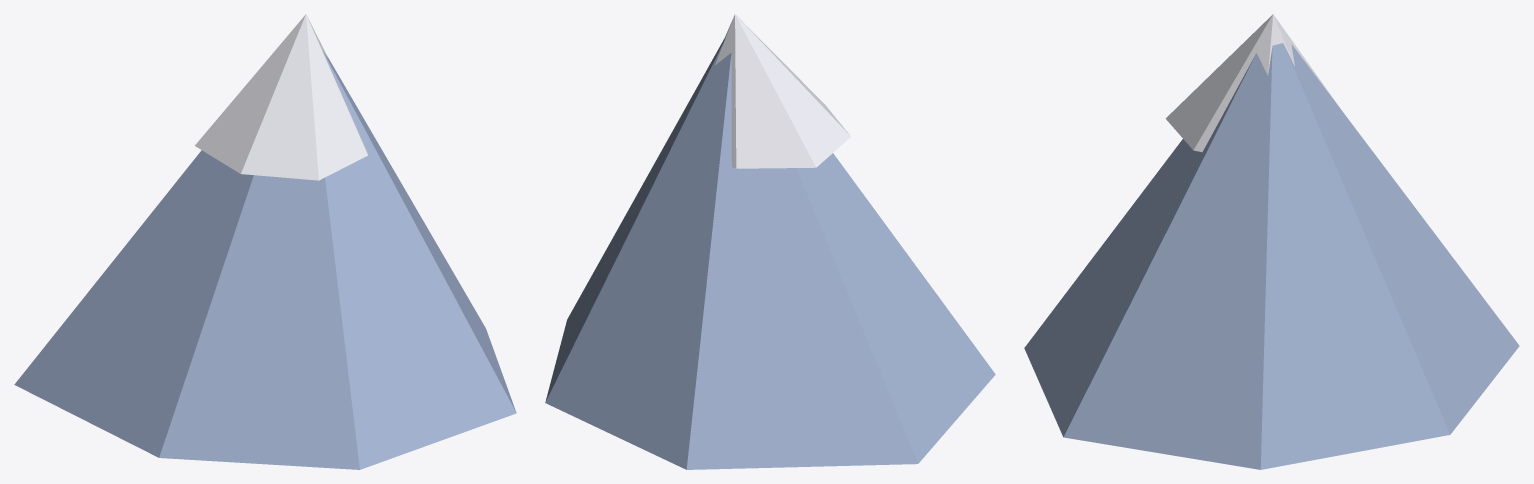
The model's file is mountain.glb.
The picture shows the model from 3 angles, left to right: view 1: azimuth 30°, elevation 25°; view 2: azimuth 150°, elevation 25°; view 3: azimuth 270°, elevation 25°; orthographic projection. The views are drawn at different scales.
Visible parts, largest first — view 1: Peak, Snow; view 2: Peak, Snow; view 3: Peak, Snow.
Boxes of the visible parts, box(x1,y1,x2,y2) form: Peak: box(14, 51, 516, 469); Snow: box(195, 14, 367, 180); Peak: box(545, 38, 995, 469); Snow: box(715, 14, 850, 168); Peak: box(1024, 43, 1519, 469); Snow: box(1165, 14, 1341, 152).
Size of the model in its own units: 3.97 by 3.25 by 3.97.
